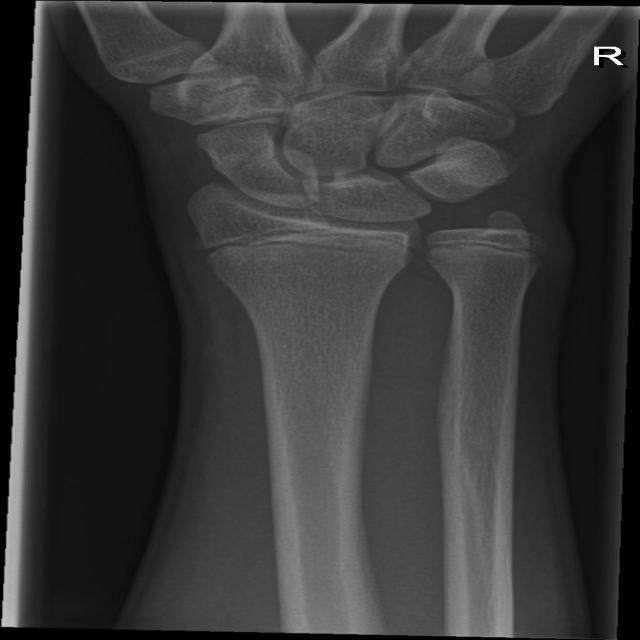fracture: (188, 215, 428, 276), (405, 228, 561, 274)
